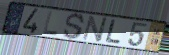4: (21, 7, 40, 34)
5: (127, 21, 149, 47)
L: (42, 10, 60, 37), (104, 19, 122, 45)
N: (81, 14, 109, 44)
S: (62, 12, 86, 40)
